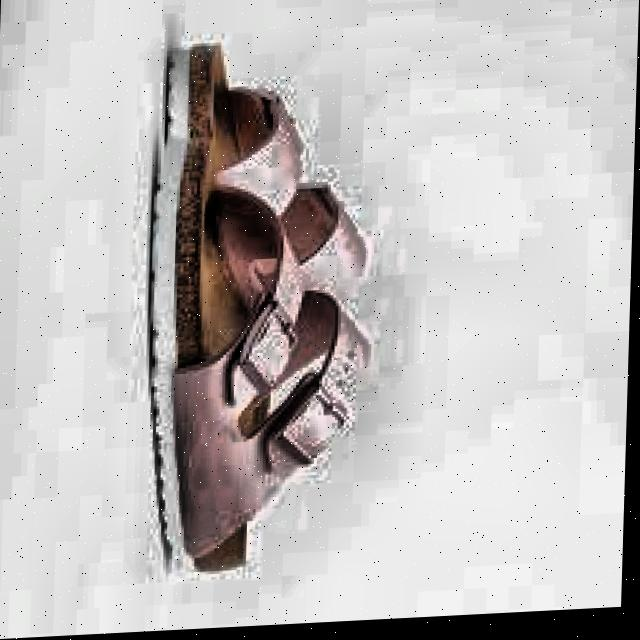shoes: (85, 16, 404, 602)
